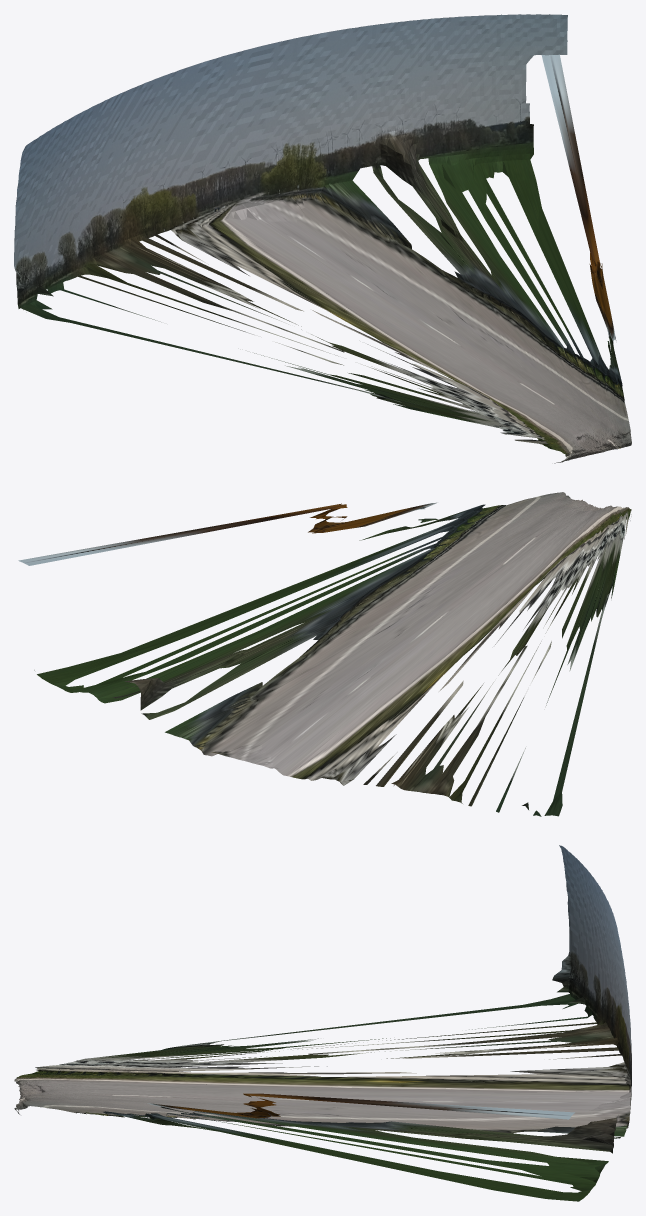
The picture shows the model from 3 angles, top to bottom: view 1: azimuth 30°, elevation 25°; view 2: azimuth 150°, elevation 25°; view 3: azimuth 270°, elevation 25°; orthographic projection. The views are drawn at different scales.
Parts seen in each view (by area): view 1: defaultobject; view 2: defaultobject; view 3: defaultobject.
Part boxes in pixels (box(x1,y1,x2,y2)): defaultobject: box(14, 14, 631, 463); defaultobject: box(18, 492, 631, 816); defaultobject: box(14, 845, 631, 1201).
Bounding box in the file's own units: 41.03 × 12.89 × 44.44.
Materials: 1 (1 with a texture image).
